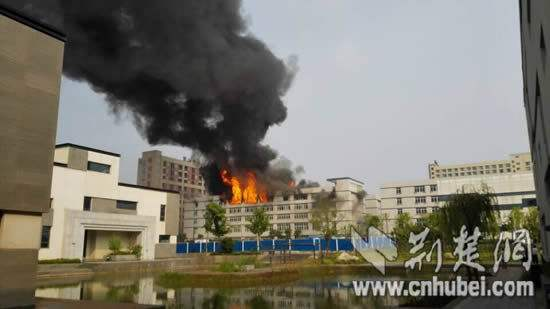fire: (219, 164, 279, 201)
